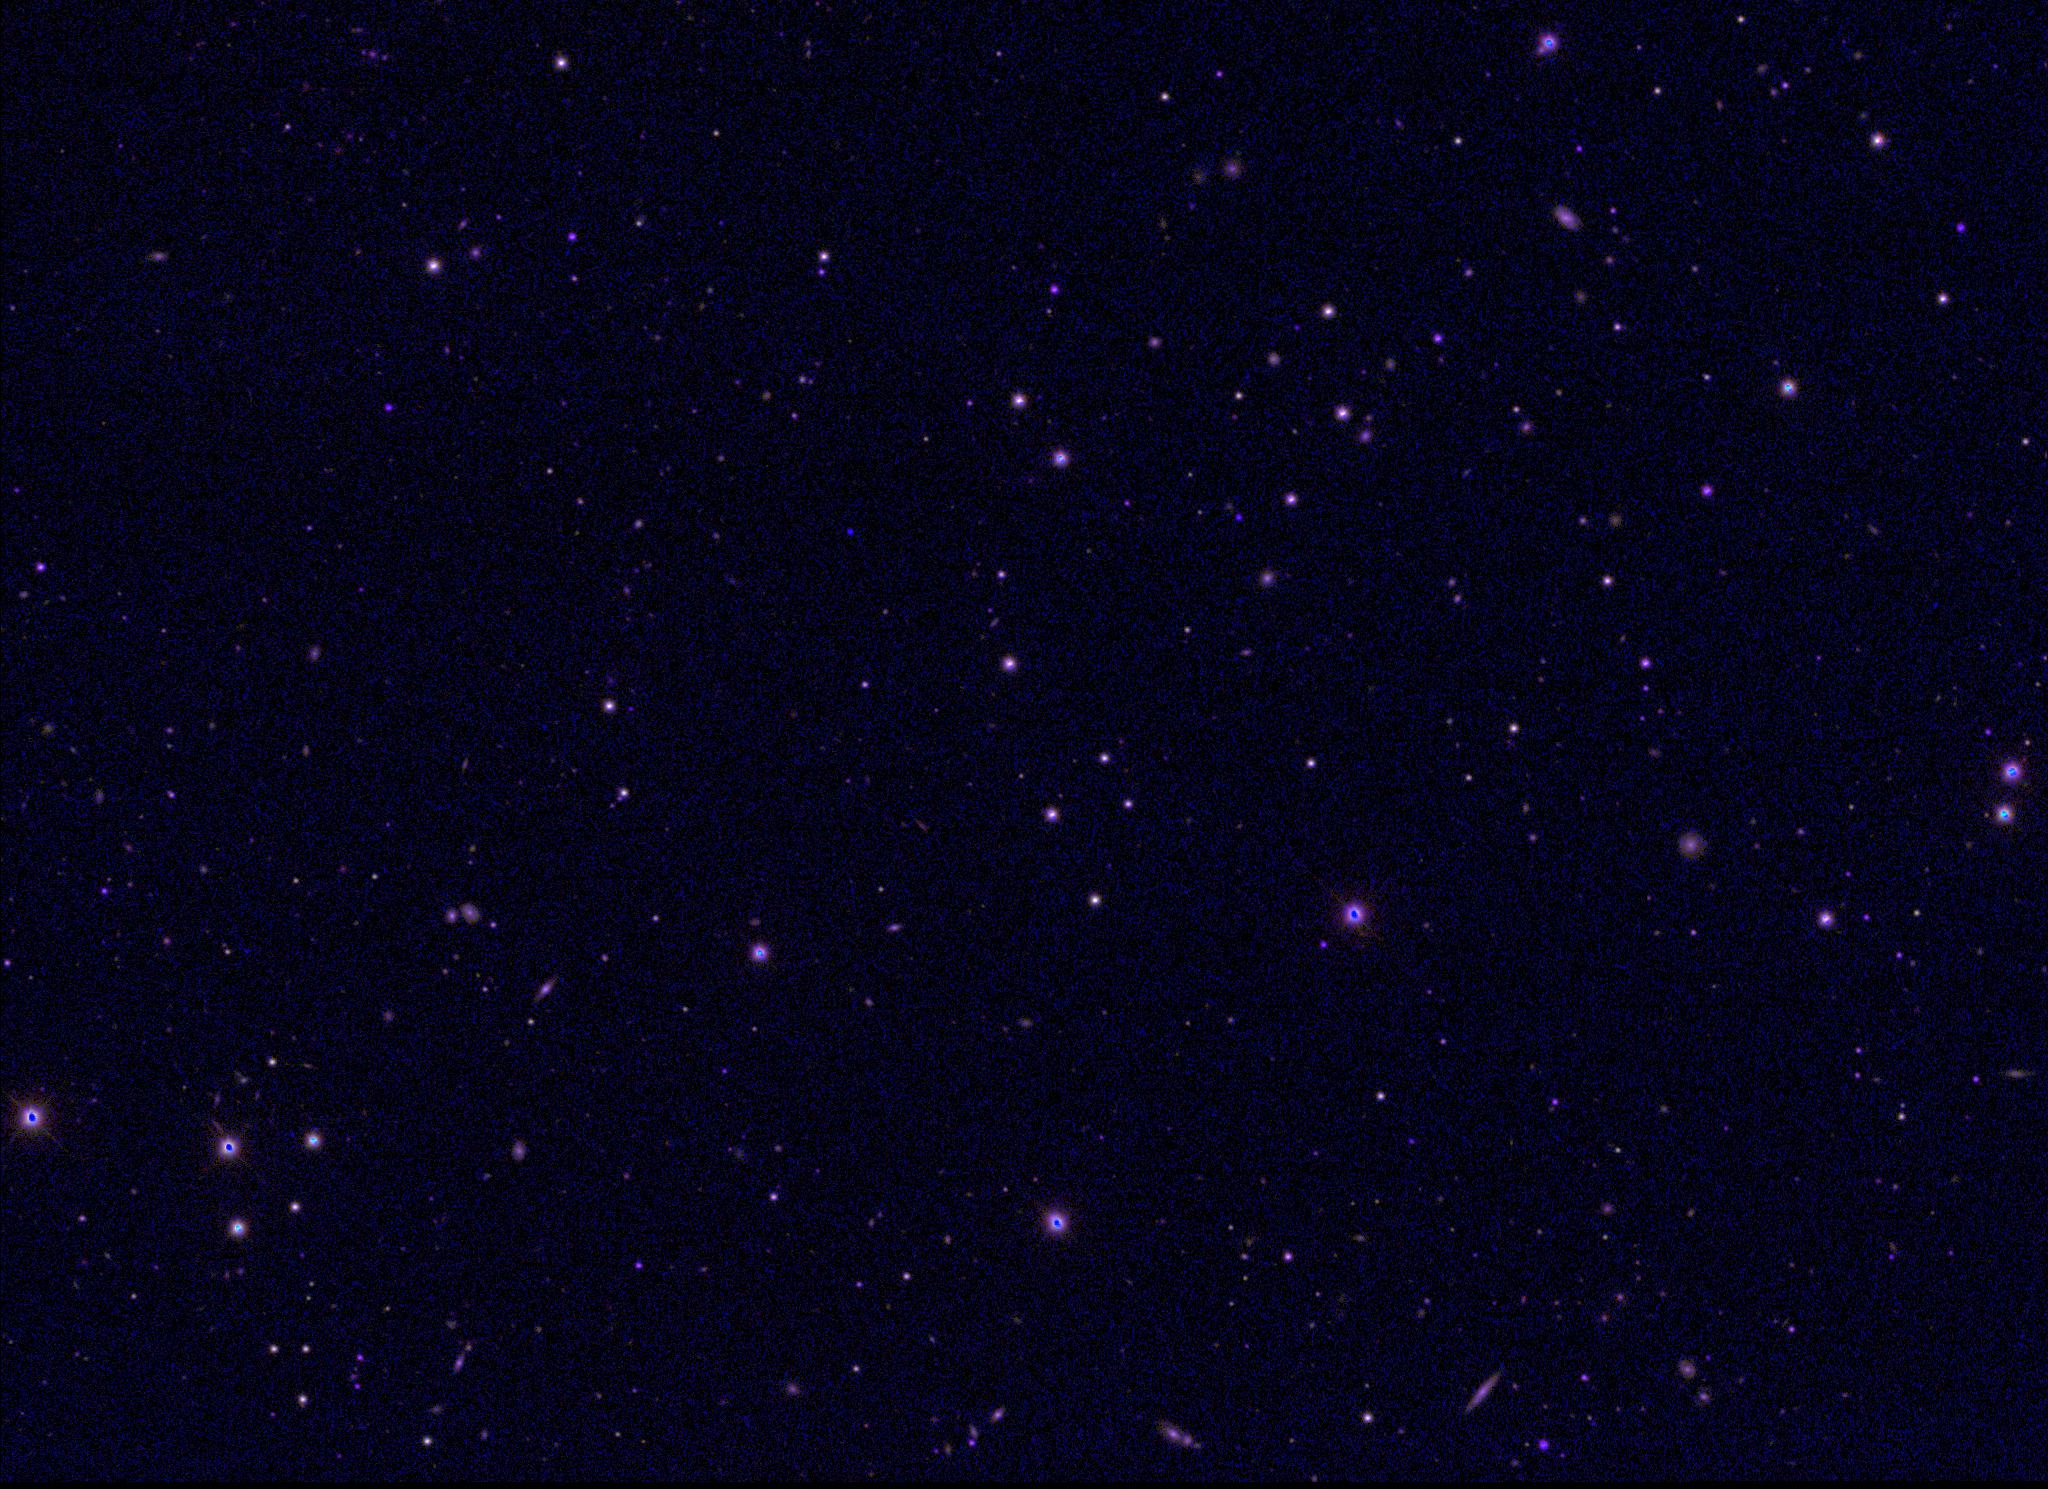L: (843, 525, 857, 539)
